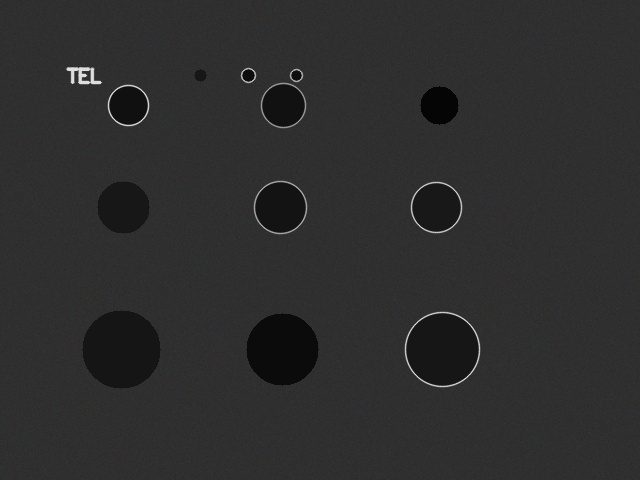hole: (82, 310, 160, 388), (405, 312, 479, 386), (246, 313, 318, 385), (97, 181, 149, 233), (254, 181, 306, 233), (411, 182, 461, 232), (261, 83, 305, 127), (108, 85, 148, 125), (420, 86, 458, 124), (241, 68, 255, 82), (194, 69, 206, 81), (290, 69, 302, 81)
